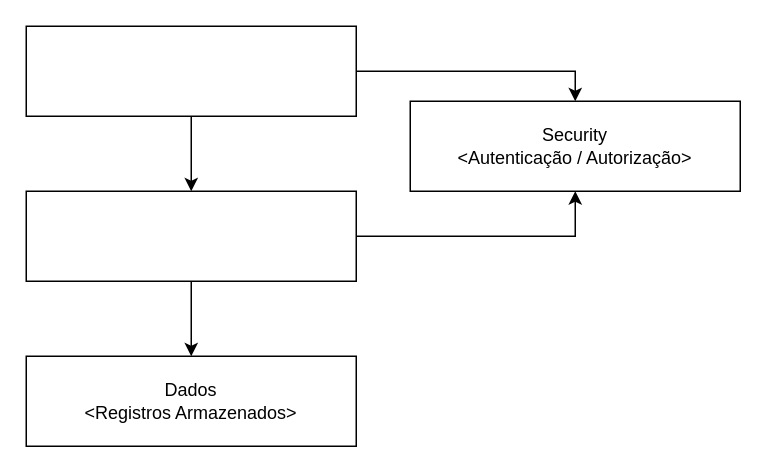
Image size: 767x473. Some labels were removed from this diagram. Here are the shapes that lost their labels. From the top down, the centre of each, then its label:
At pixel 190 70: "Frontend <Apresentação>".
At pixel 190 235: "Backend <Domínio de Negócio>".
